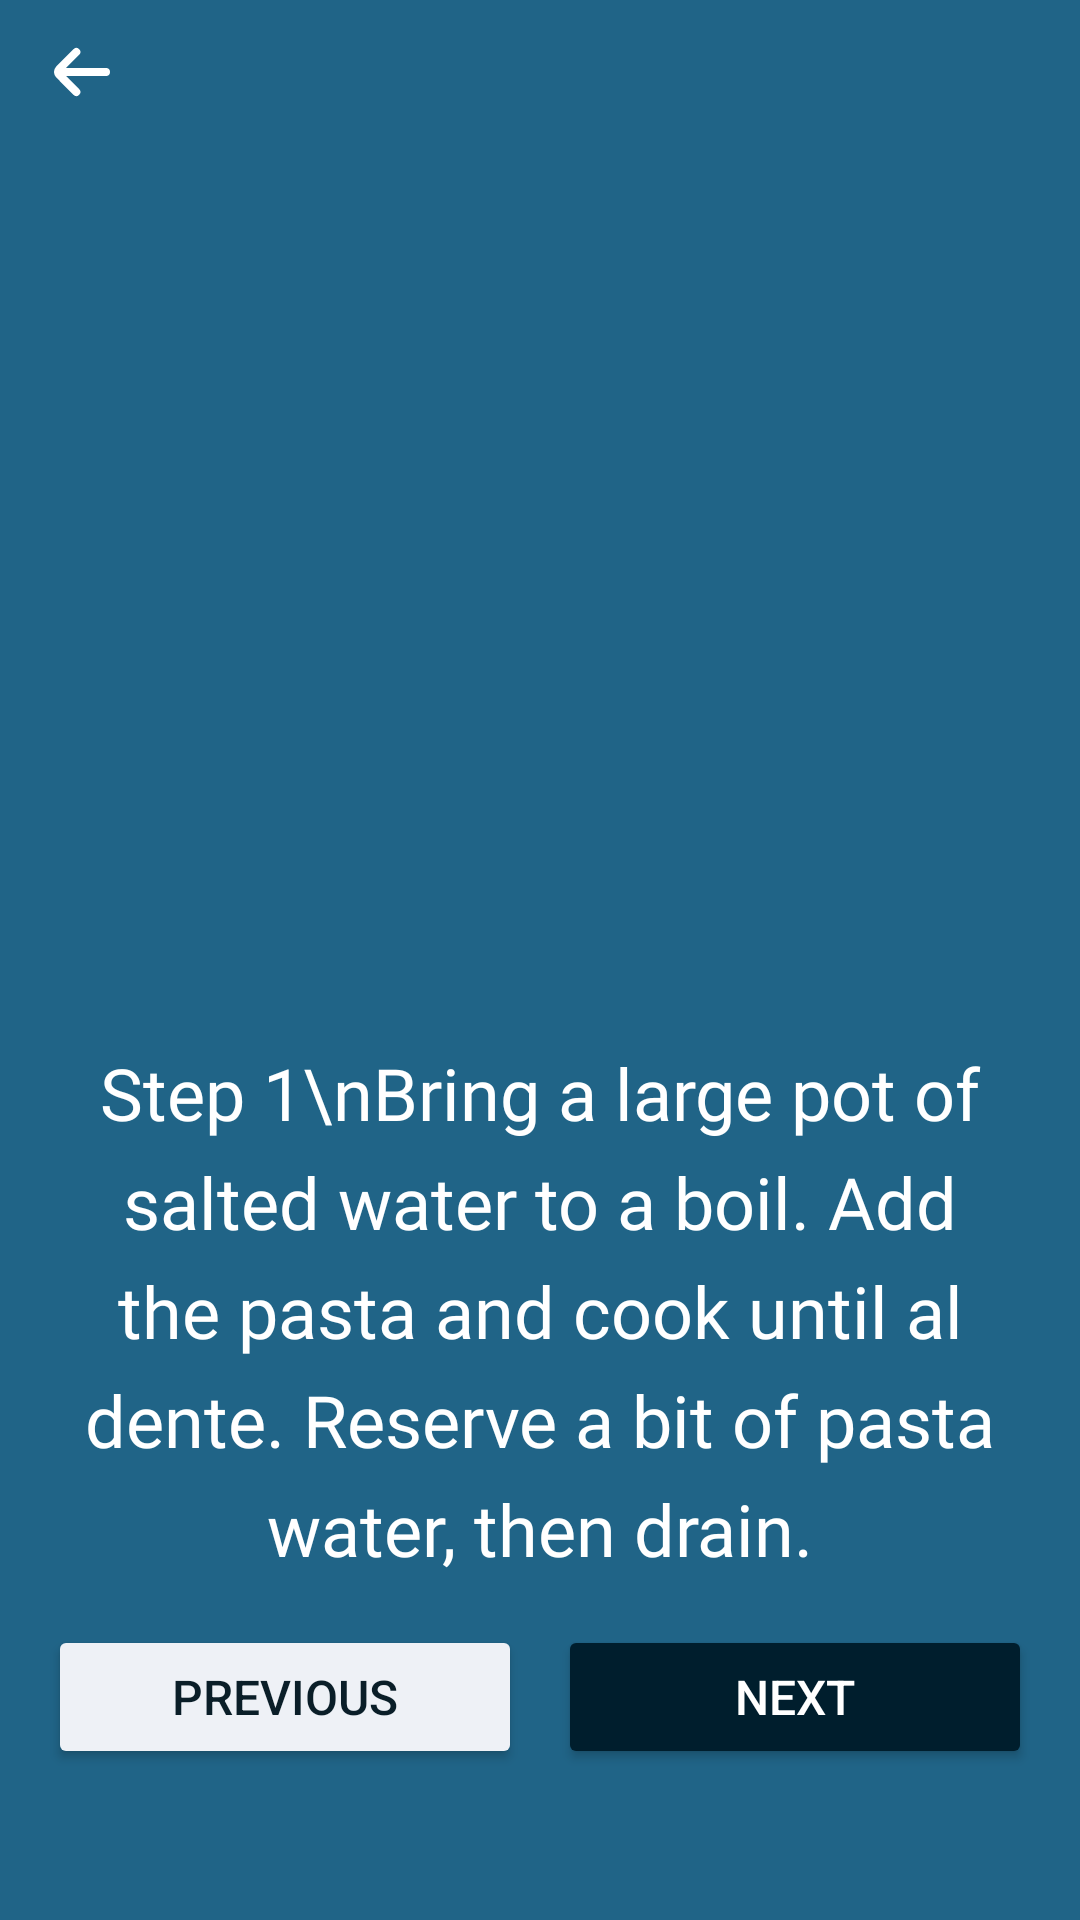

Named icons in this screenshot (1080px x 1920px) and their bounding boxes, (x1,y1,x2,y2):
back button: (54,47,110,97)
